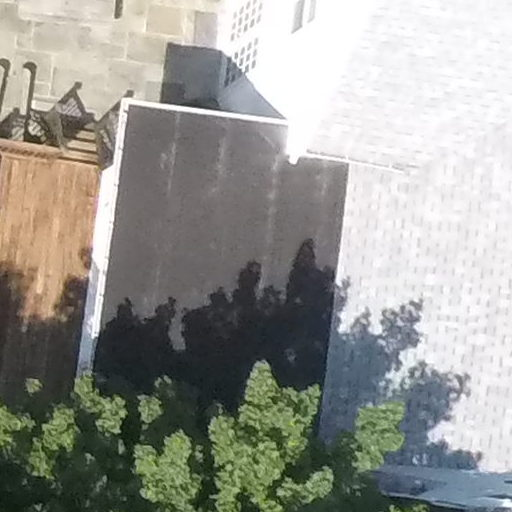porch: (1, 69, 127, 424)
